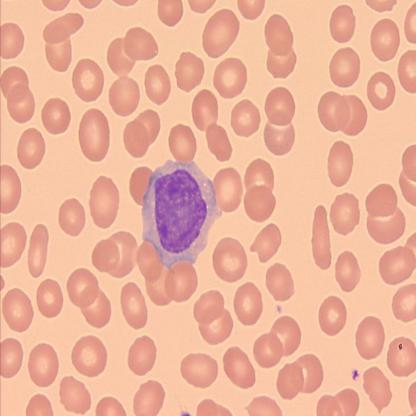Monocyte: (141, 158, 221, 272)
